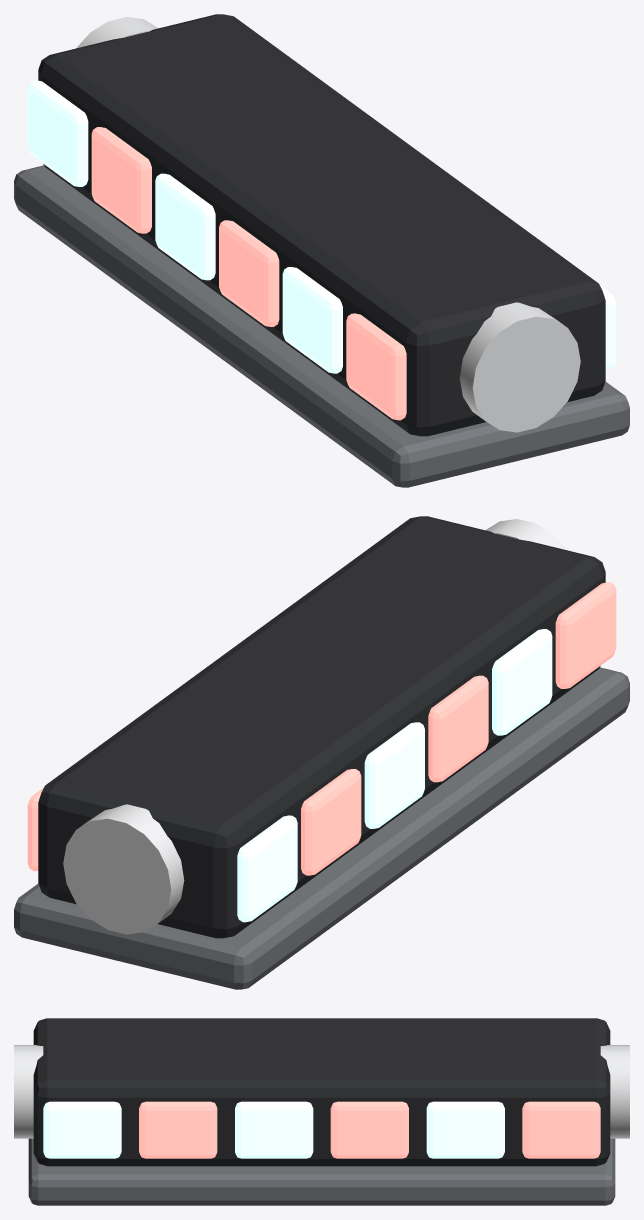
Rendered from top_lightbar.fbx.
The picture shows the model from 3 angles, top to bottom: view 1: azimuth 30°, elevation 25°; view 2: azimuth 150°, elevation 25°; view 3: azimuth 270°, elevation 25°; orthographic projection. The views are drawn at different scales.
Visible parts, largest first — view 1: dark_1, gun_1, lens_blue_1, lens_red_1, chrome_1; view 2: dark_1, gun_1, lens_red_1, lens_blue_1, chrome_1; view 3: dark_1, gun_1, lens_blue_1, lens_red_1, chrome_1.
Boxes of the visible parts, x1,y1,x2,y2 form: dark_1: (38, 14, 605, 436); gun_1: (14, 165, 629, 487); lens_blue_1: (27, 80, 616, 373); lens_red_1: (91, 127, 406, 420); chrome_1: (76, 17, 580, 432); dark_1: (38, 516, 605, 938); gun_1: (14, 667, 629, 989); lens_red_1: (27, 582, 616, 875); lens_blue_1: (237, 629, 552, 922); chrome_1: (63, 519, 567, 934); dark_1: (33, 1018, 610, 1166); gun_1: (28, 1138, 615, 1205); lens_blue_1: (43, 1101, 504, 1158); lens_red_1: (139, 1101, 600, 1158); chrome_1: (14, 1045, 629, 1138).
Size of the model in its own units: 0.0194 by 0.0122 by 0.0581.
